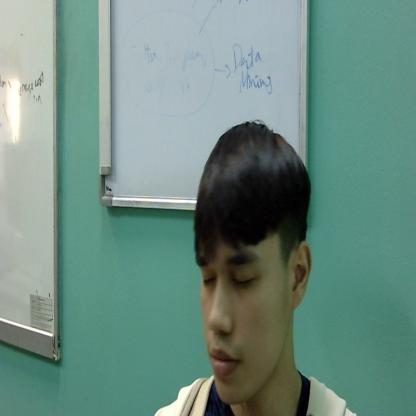Closed-Eyes: (191, 242, 268, 307)
